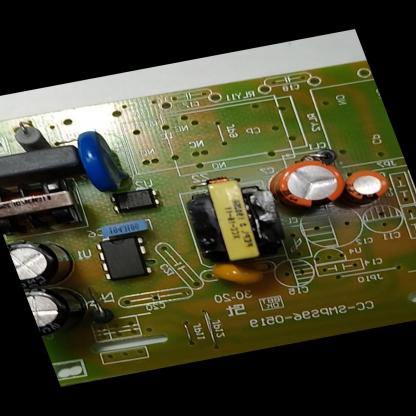Cap1: (261, 150, 355, 219)
Cap2: (332, 165, 397, 210)
Cap3: (6, 232, 86, 291)
Cap4: (23, 277, 101, 340)
MOSFET: (89, 231, 163, 289)
Mov: (66, 125, 136, 199)
Resistor: (7, 118, 53, 152)
Transformer: (172, 167, 300, 271), (0, 169, 94, 243)
